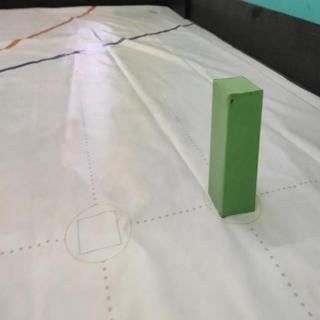greenbox: (209, 74, 265, 221)
